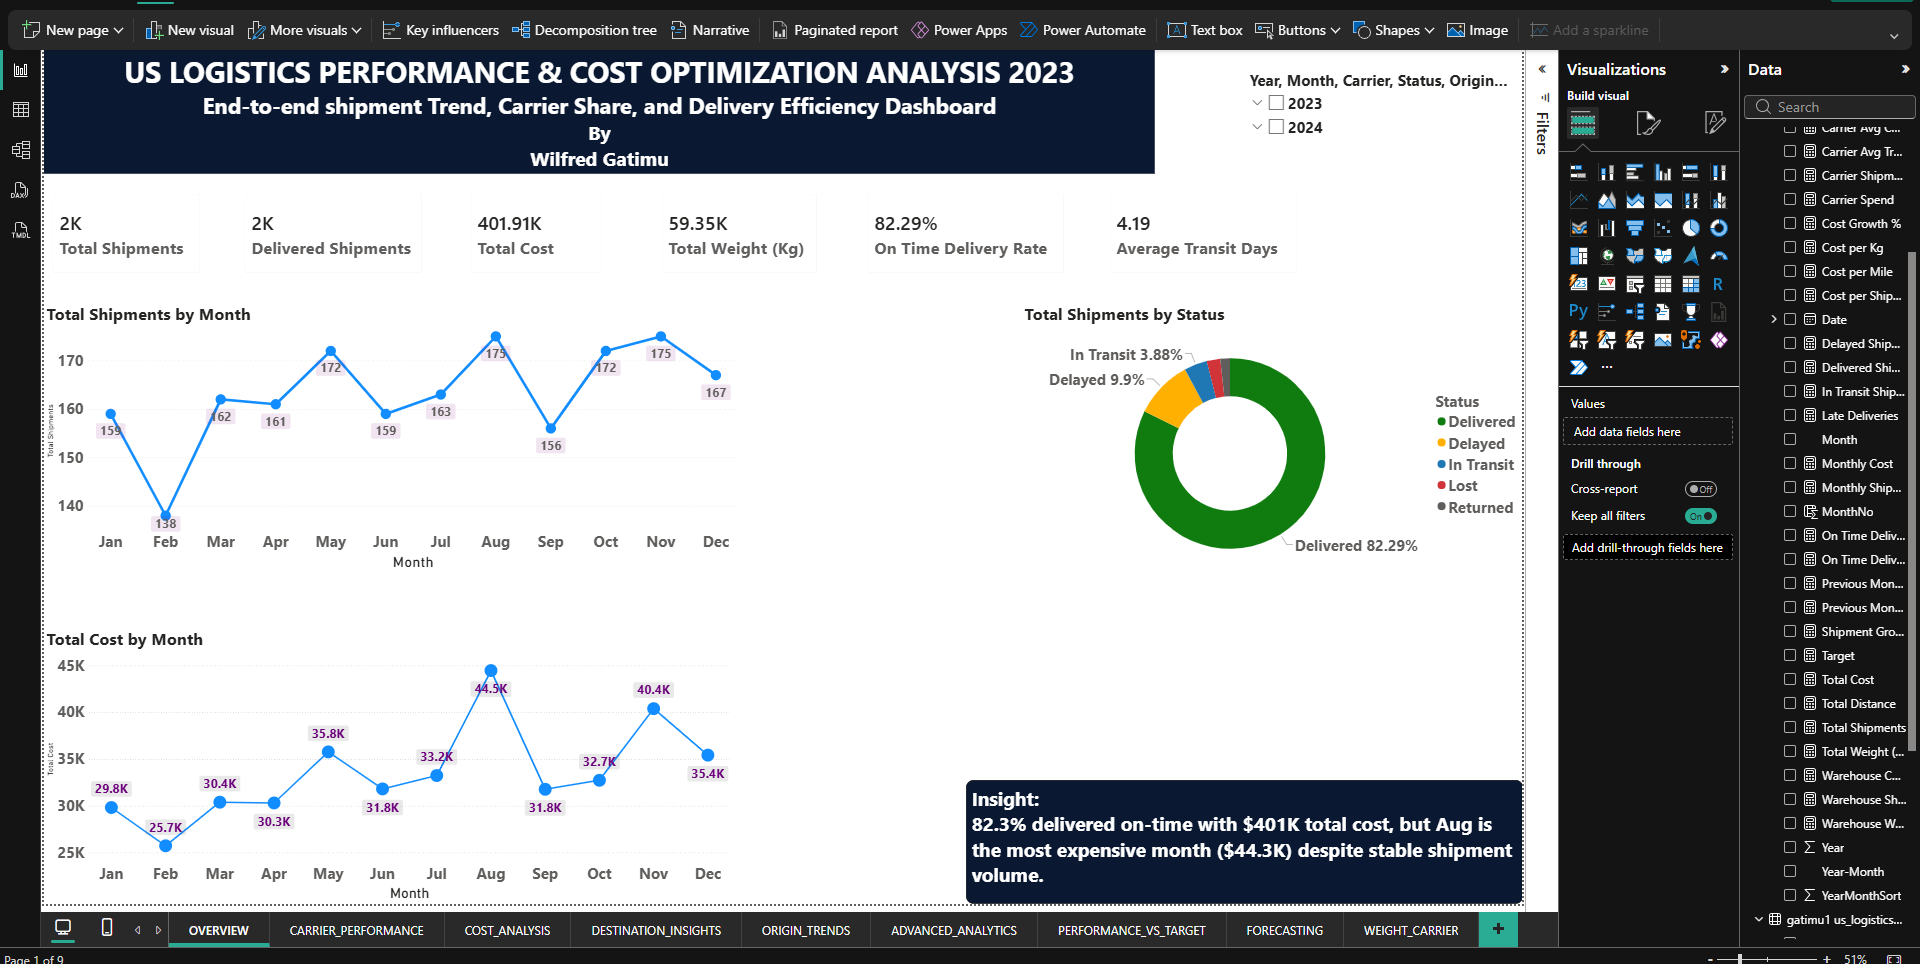

Layout of this report page (visuals, bound fields, positions):
{"tool":"powerbi","page":{"name":"OVERVIEW","canvas":[2880,1663],"ordinal":0},"visuals":[{"type":"cardVisual","fields":{"Data":["Calendar.Total Shipments"]},"box":[0,262.9,321.3,188.9],"z":0},{"type":"cardVisual","fields":{"Data":["Calendar.Delivered Shipments"]},"box":[373.9,262.9,379.7,188.9],"z":1000},{"type":"cardVisual","fields":{"Data":["Calendar.Total Cost"]},"box":[814,262.9,290.1,188.9],"z":2000},{"type":"cardVisual","fields":{"Data":["Calendar.Total Weight (Kg)"]},"box":[1185.9,262.9,336.9,188.9],"z":3000},{"type":"cardVisual","fields":{"Data":["Calendar.On Time Delivery Rate"]},"box":[1587.1,262.9,416.7,188.9],"z":4000},{"type":"cardVisual","fields":{"Data":["Calendar.Average Transit Days"]},"box":[2058.3,262.9,399.2,188.9],"z":5000},{"type":"lineChart","fields":{"Y":["Calendar.Total Shipments"],"Category":["Calendar.Month"]},"box":[0,491,1356.3,527.3],"z":6000},{"type":"lineChart","fields":{"Y":["Calendar.Total Cost"],"Category":["Calendar.Month"]},"box":[0,1123.6,1340,539.6],"z":7000},{"type":"donutChart","fields":{"Category":["gatimu1 us_logistics_shipments.Status"],"Y":["Calendar.Total Shipments"]},"box":[1904.5,490.7,976,546.9],"z":8000},{"type":"slicer","fields":{"Values":["Calendar.Year","Calendar.Month","gatimu1 us_logistics_shipments.Carrier","gatimu1 us_logistics_shipments.Status","gatimu1 us_logistics_shipments.Origin_warehouse","gatimu1 us_logistics_shipments.Destination"]},"box":[2334.8,33.1,545.2,190.8],"z":9000},{"type":"textbox","box":[0,0,2163.5,241.5],"z":10000},{"type":"textbox","box":[1795.4,1421.5,1084.6,241.5],"z":11000}]}

Visuals, with their boxes on the page's 2880x1663 design canvas (x1, y1, x2, y2). These are canvas units, not pixel positions in the 1920x964 screenshot, which may show the page scaled, cropped or inside an application window:
cardVisual - Calendar.Total Shipments: detection(0, 263, 321, 452)
cardVisual - Calendar.Delivered Shipments: detection(374, 263, 754, 452)
cardVisual - Calendar.Total Cost: detection(814, 263, 1104, 452)
cardVisual - Calendar.Total Weight (Kg): detection(1186, 263, 1523, 452)
cardVisual - Calendar.On Time Delivery Rate: detection(1587, 263, 2004, 452)
cardVisual - Calendar.Average Transit Days: detection(2058, 263, 2458, 452)
lineChart - Calendar.Total Shipments x Calendar.Month: detection(0, 491, 1356, 1018)
lineChart - Calendar.Total Cost x Calendar.Month: detection(0, 1124, 1340, 1663)
donutChart - gatimu1 us_logistics_shipments.Status x Calendar.Total Shipments: detection(1904, 491, 2880, 1038)
slicer - Calendar.Year x Calendar.Month: detection(2335, 33, 2880, 224)
textbox: detection(0, 0, 2164, 242)
textbox: detection(1795, 1422, 2880, 1663)
